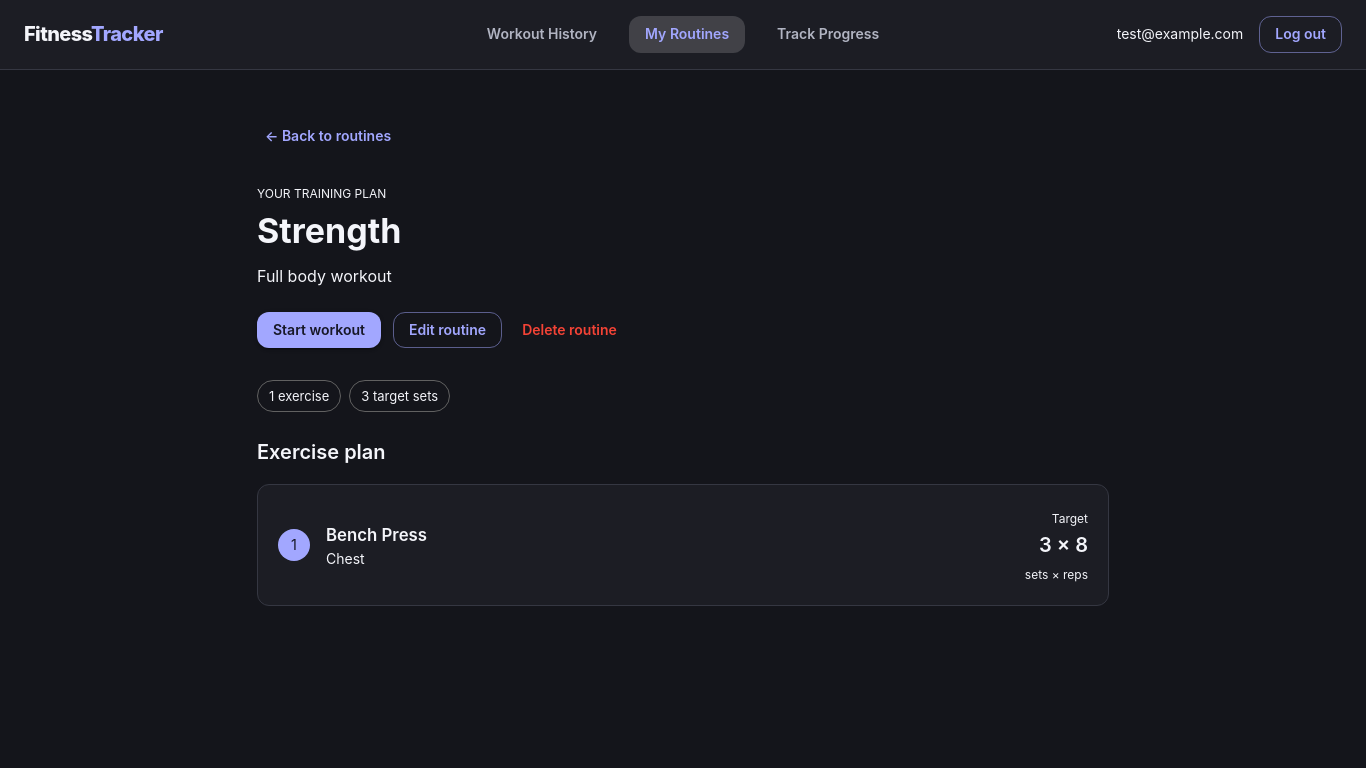
Test: Routines › keeps the routine when deletion is cancelled
Click the button "Delete routine" at (570, 331), box left=514, top=312, right=625, bottom=349
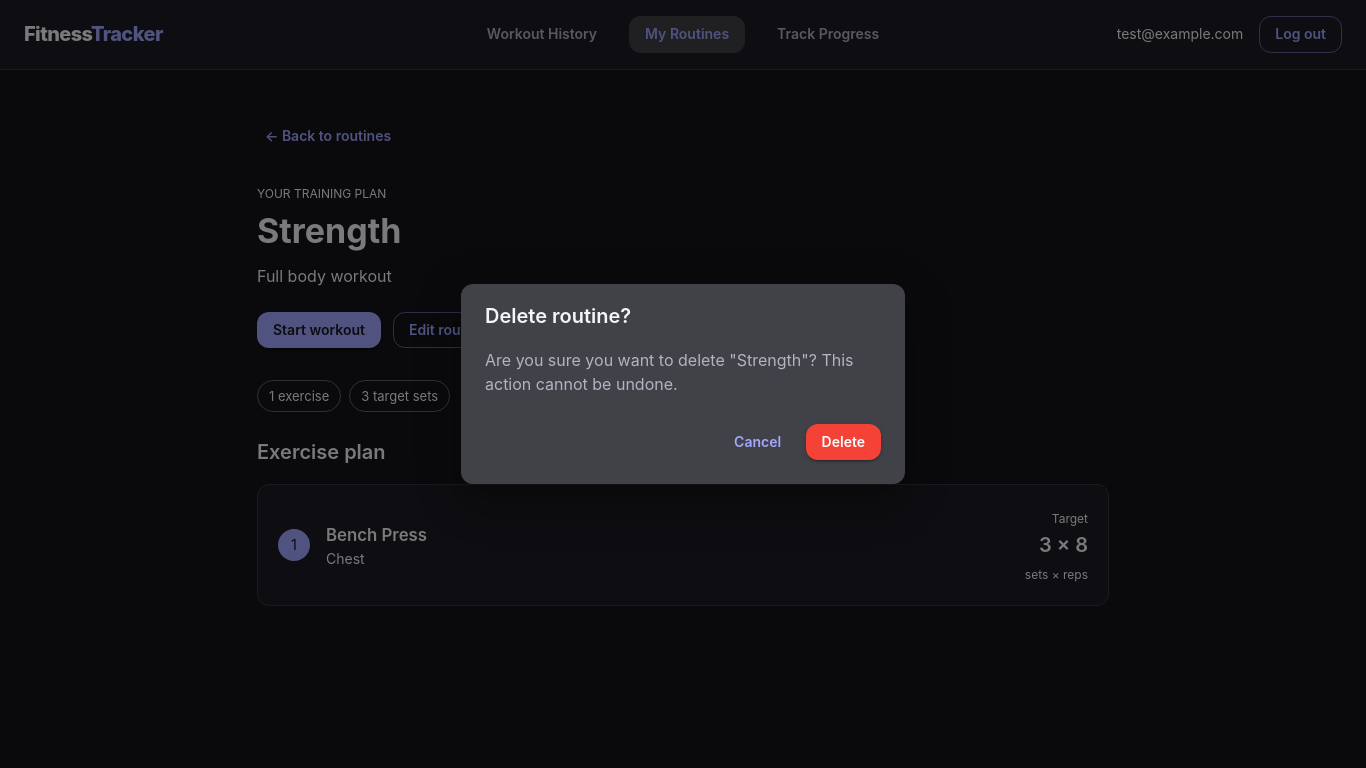
Expected: the heading "Delete routine?" is shown, left=485, top=304, right=631, bottom=328
Expected: the text "Are you sure you want to delete \"Strength\"?" is shown, left=485, top=350, right=854, bottom=394
Click the button "Cancel" at (758, 443), box left=726, top=424, right=790, bottom=461
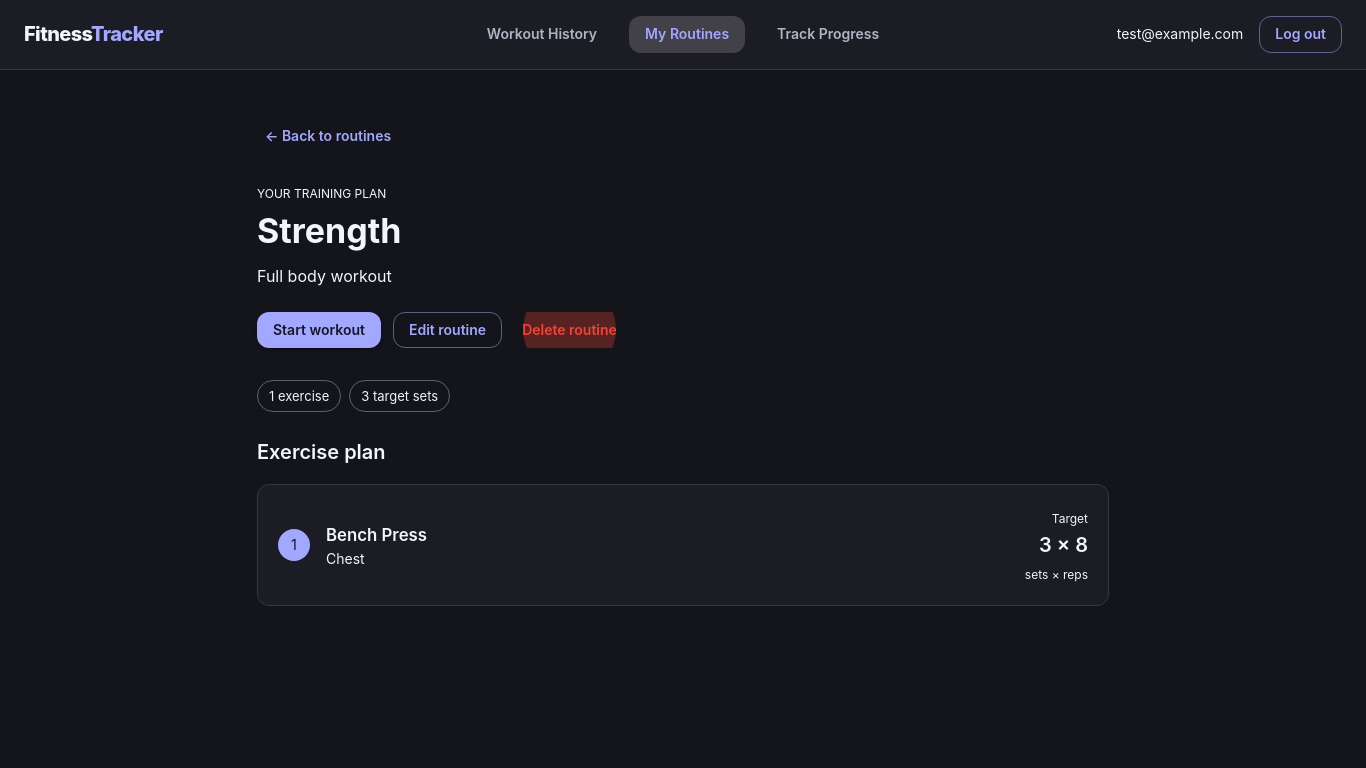
Expected: the heading "Strength" is shown, left=257, top=210, right=401, bottom=251
Expected: the dialog is gone
